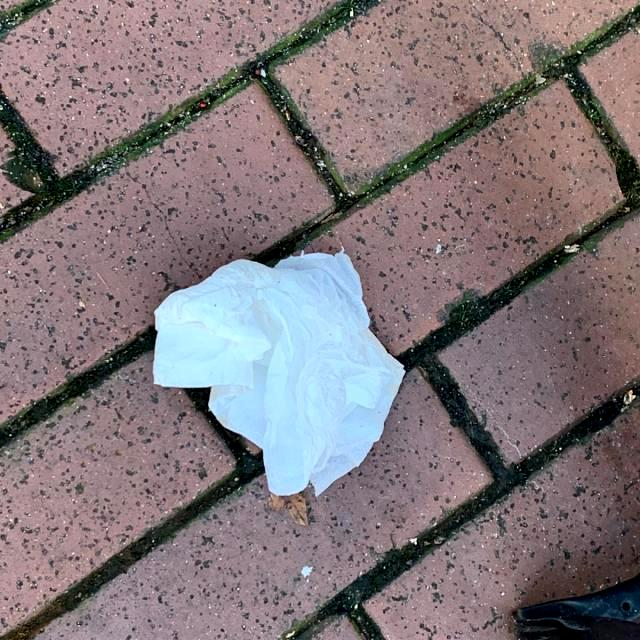Paper: (150, 249, 410, 497)
